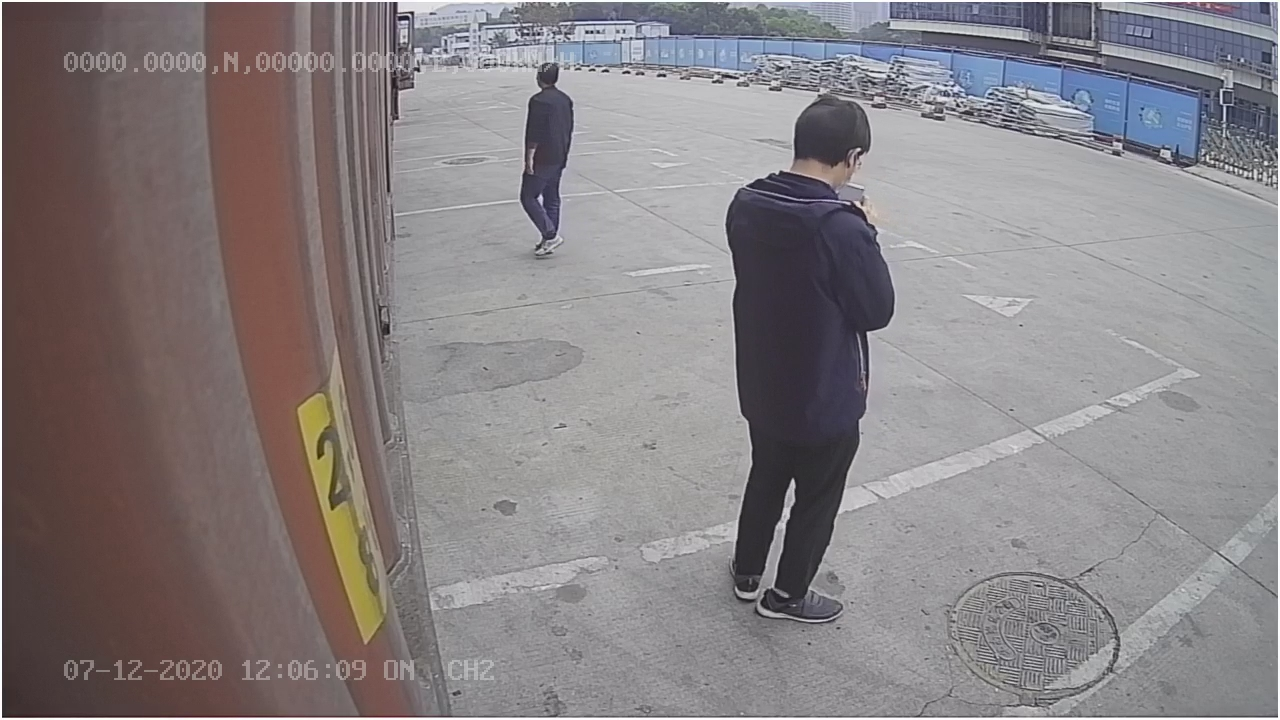person: (711, 88, 900, 627)
